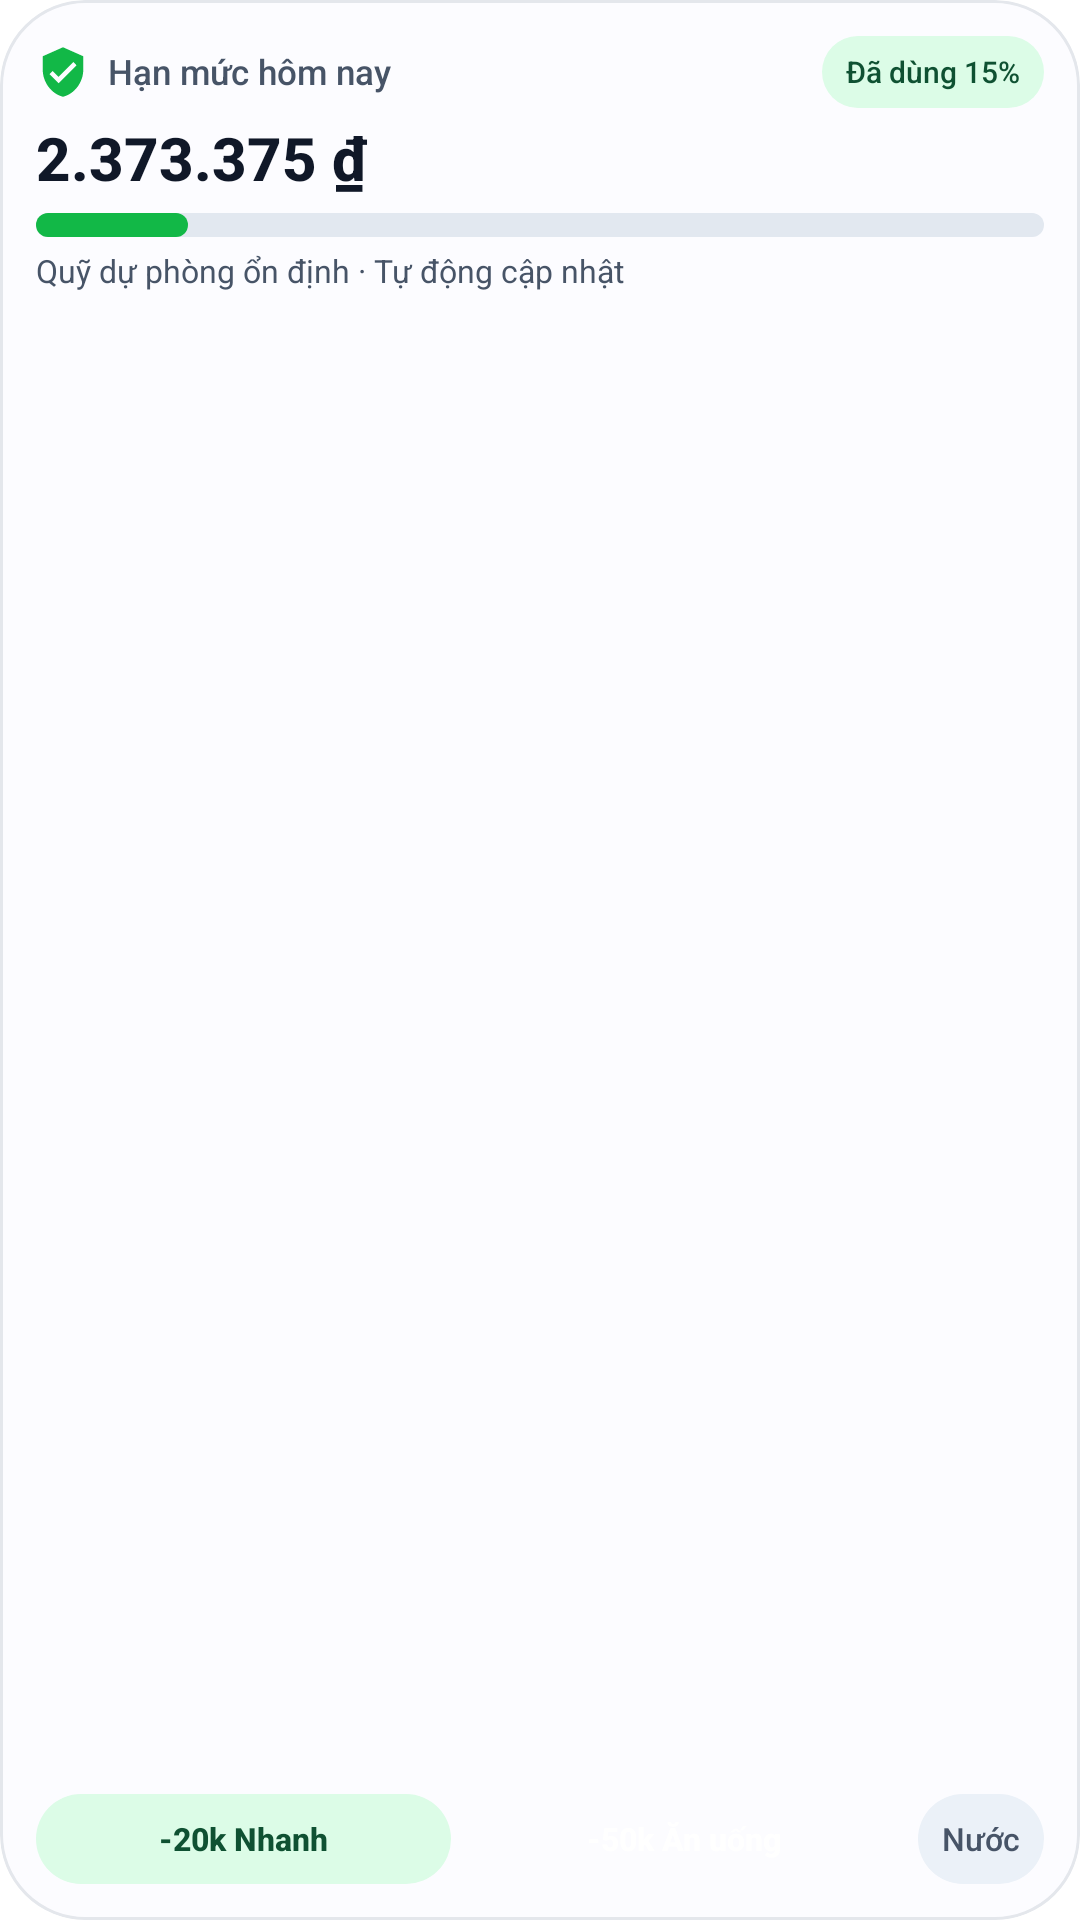

Where to tap for icons on this 1080×1920 app screen, as (x,y):
Hạn mức an toàn: (63,72)
